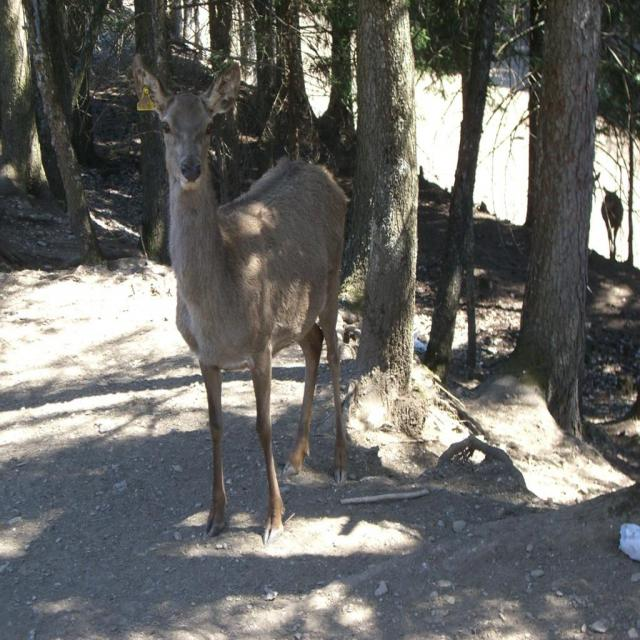Deer: (131, 53, 348, 545)
